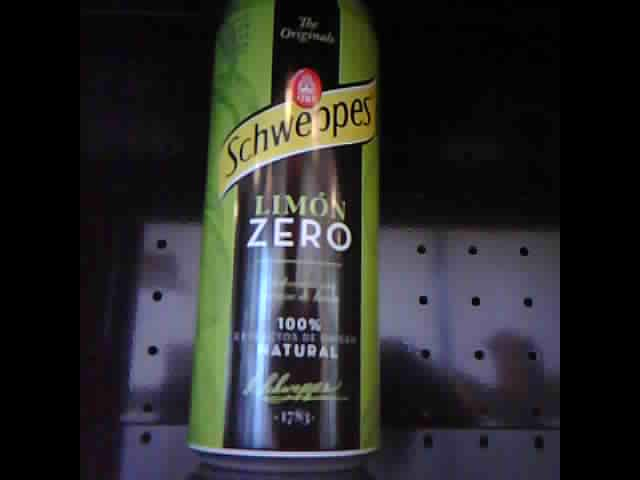schweppes: (184, 1, 384, 466)
